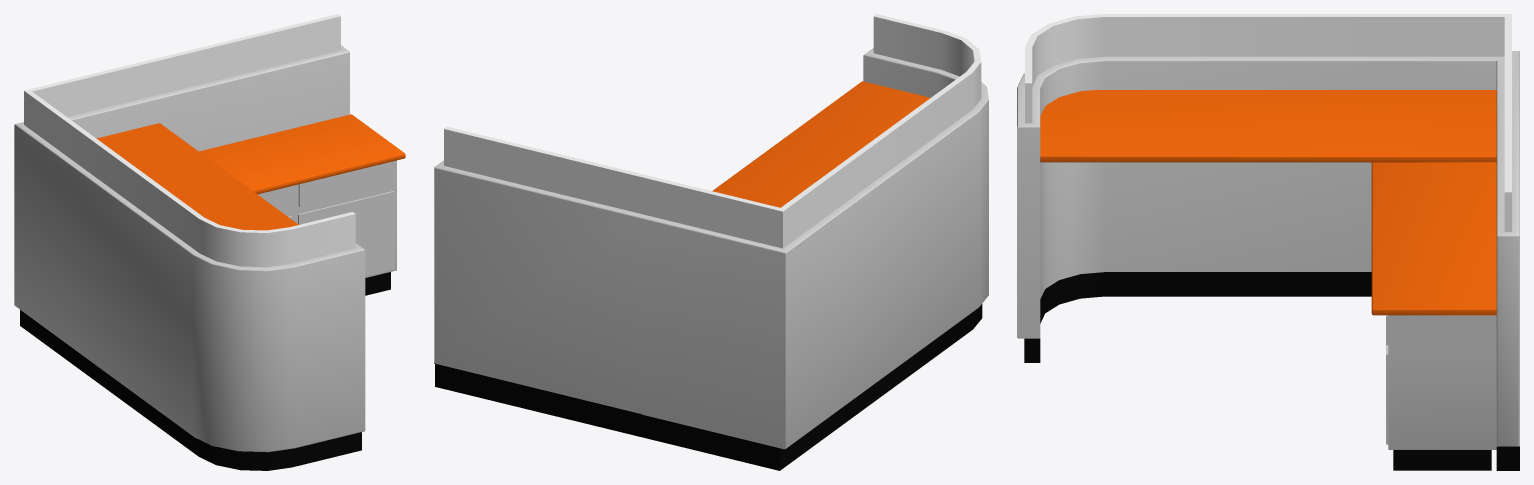
File: desk_1.glb
3 views of the same model, side by side, from view 1: azimuth 30°, elevation 25°; view 2: azimuth 150°, elevation 25°; view 3: azimuth 270°, elevation 25° (orthographic). The views are drawn at different scales.
Parts seen in each view (by area): view 1: Office Paritions Desk; view 2: Office Paritions Desk; view 3: Office Paritions Desk.
Boxes of the visible parts, <box> form: Office Paritions Desk: <box>14,14,405,470</box>; Office Paritions Desk: <box>434,14,988,470</box>; Office Paritions Desk: <box>1017,14,1519,470</box>.
Size of the model in its own units: 1.54 by 1.07 by 1.76.
